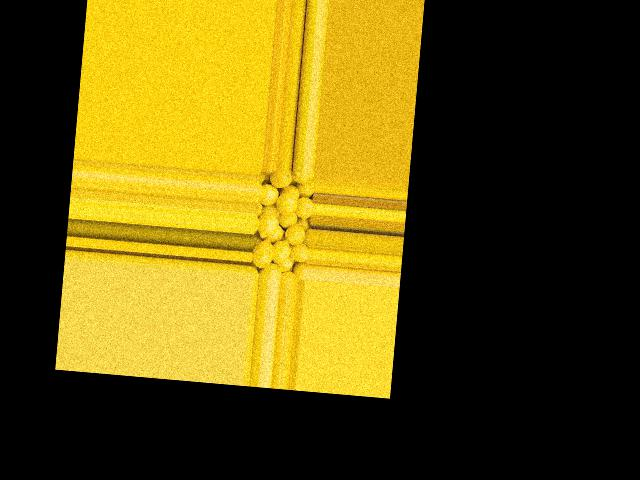lemon: (281, 224, 306, 244)
